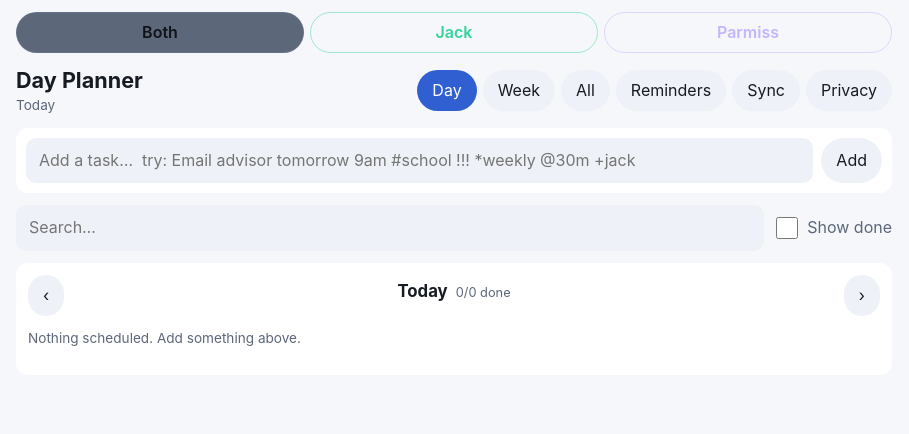
Test: App › filters with the search box
In the field labelled "Add a task": (420, 161) [26,138,813,183], type "Call dentist"
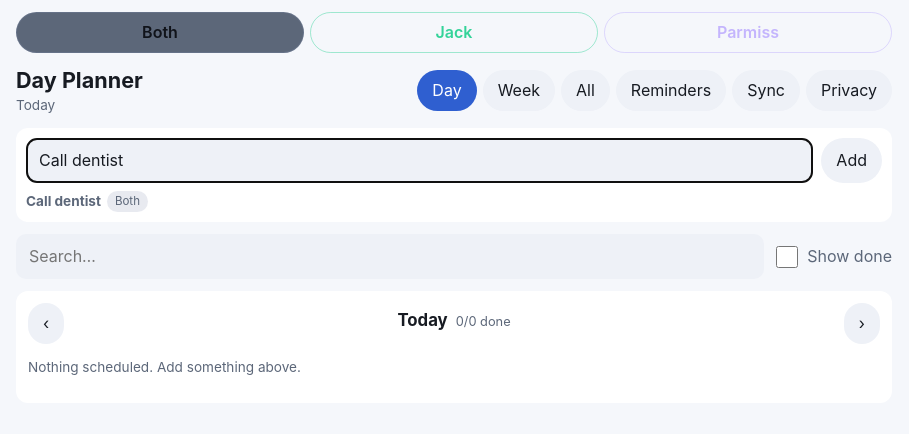
Click the button "Add": (852, 161) [821,138,882,183]
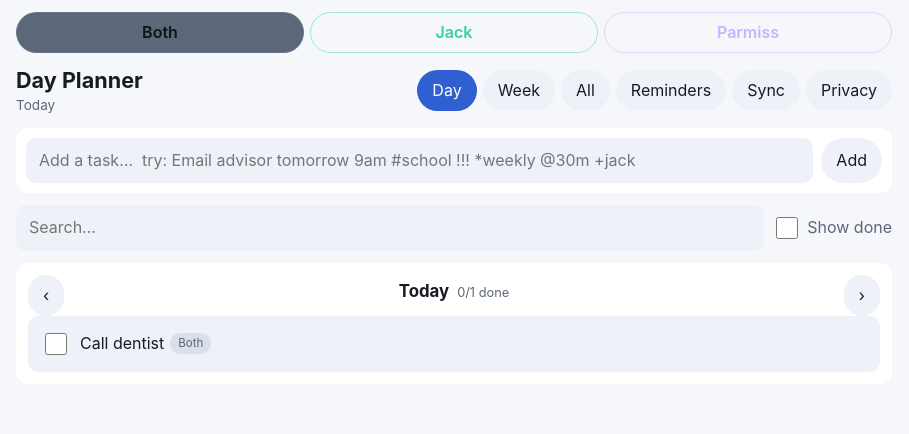
In the field labelled "Add a task": (420, 161) [26,138,813,183], type "Read chapter 4"
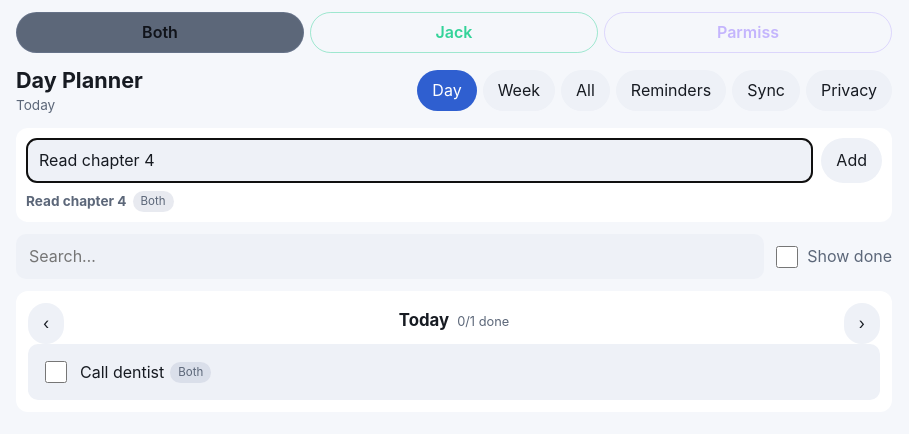
Click the button "Add": (852, 161) [821,138,882,183]
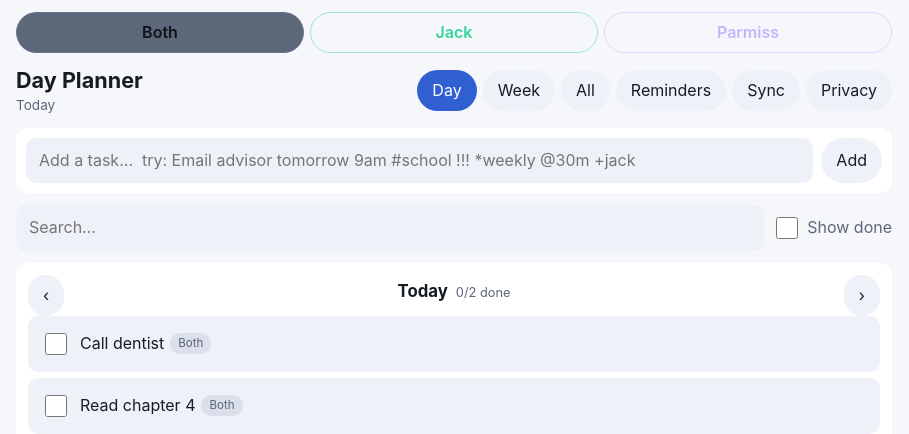
In the field named "Search tasks": (390, 228) [16,205,764,251], type "dentist"
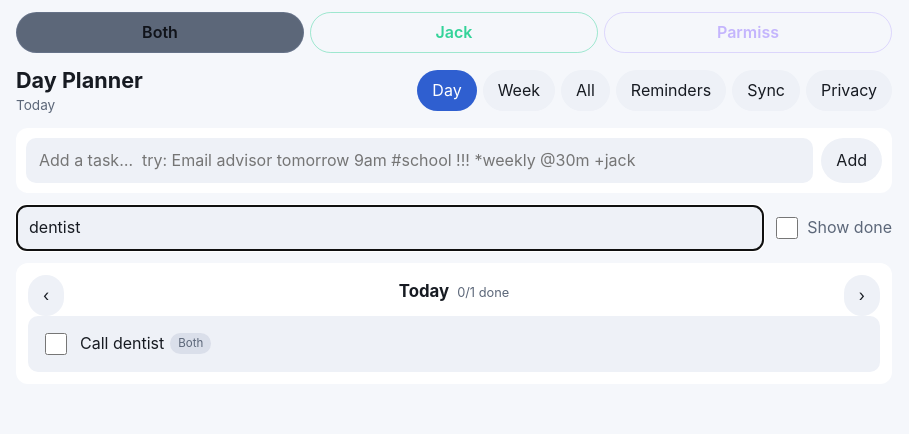
Check: the text "Call dentist" is shown, box [80,332,164,355]
Check: the button "Read chapter 4" is gone
